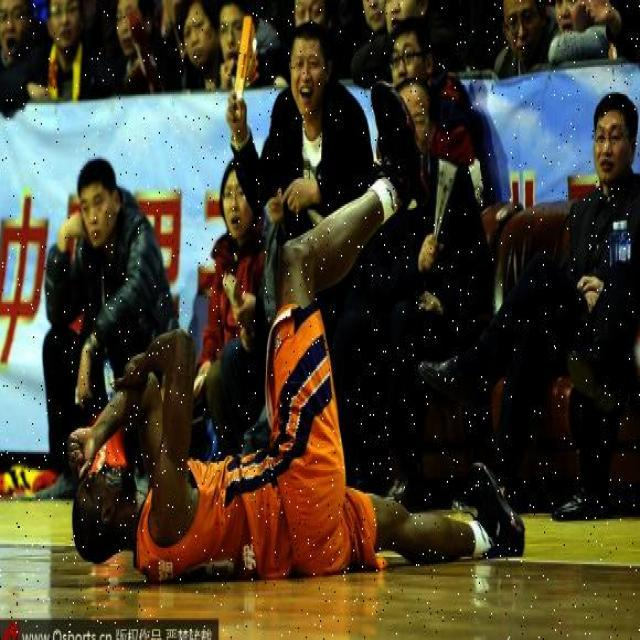fall: (66, 348, 446, 580)
